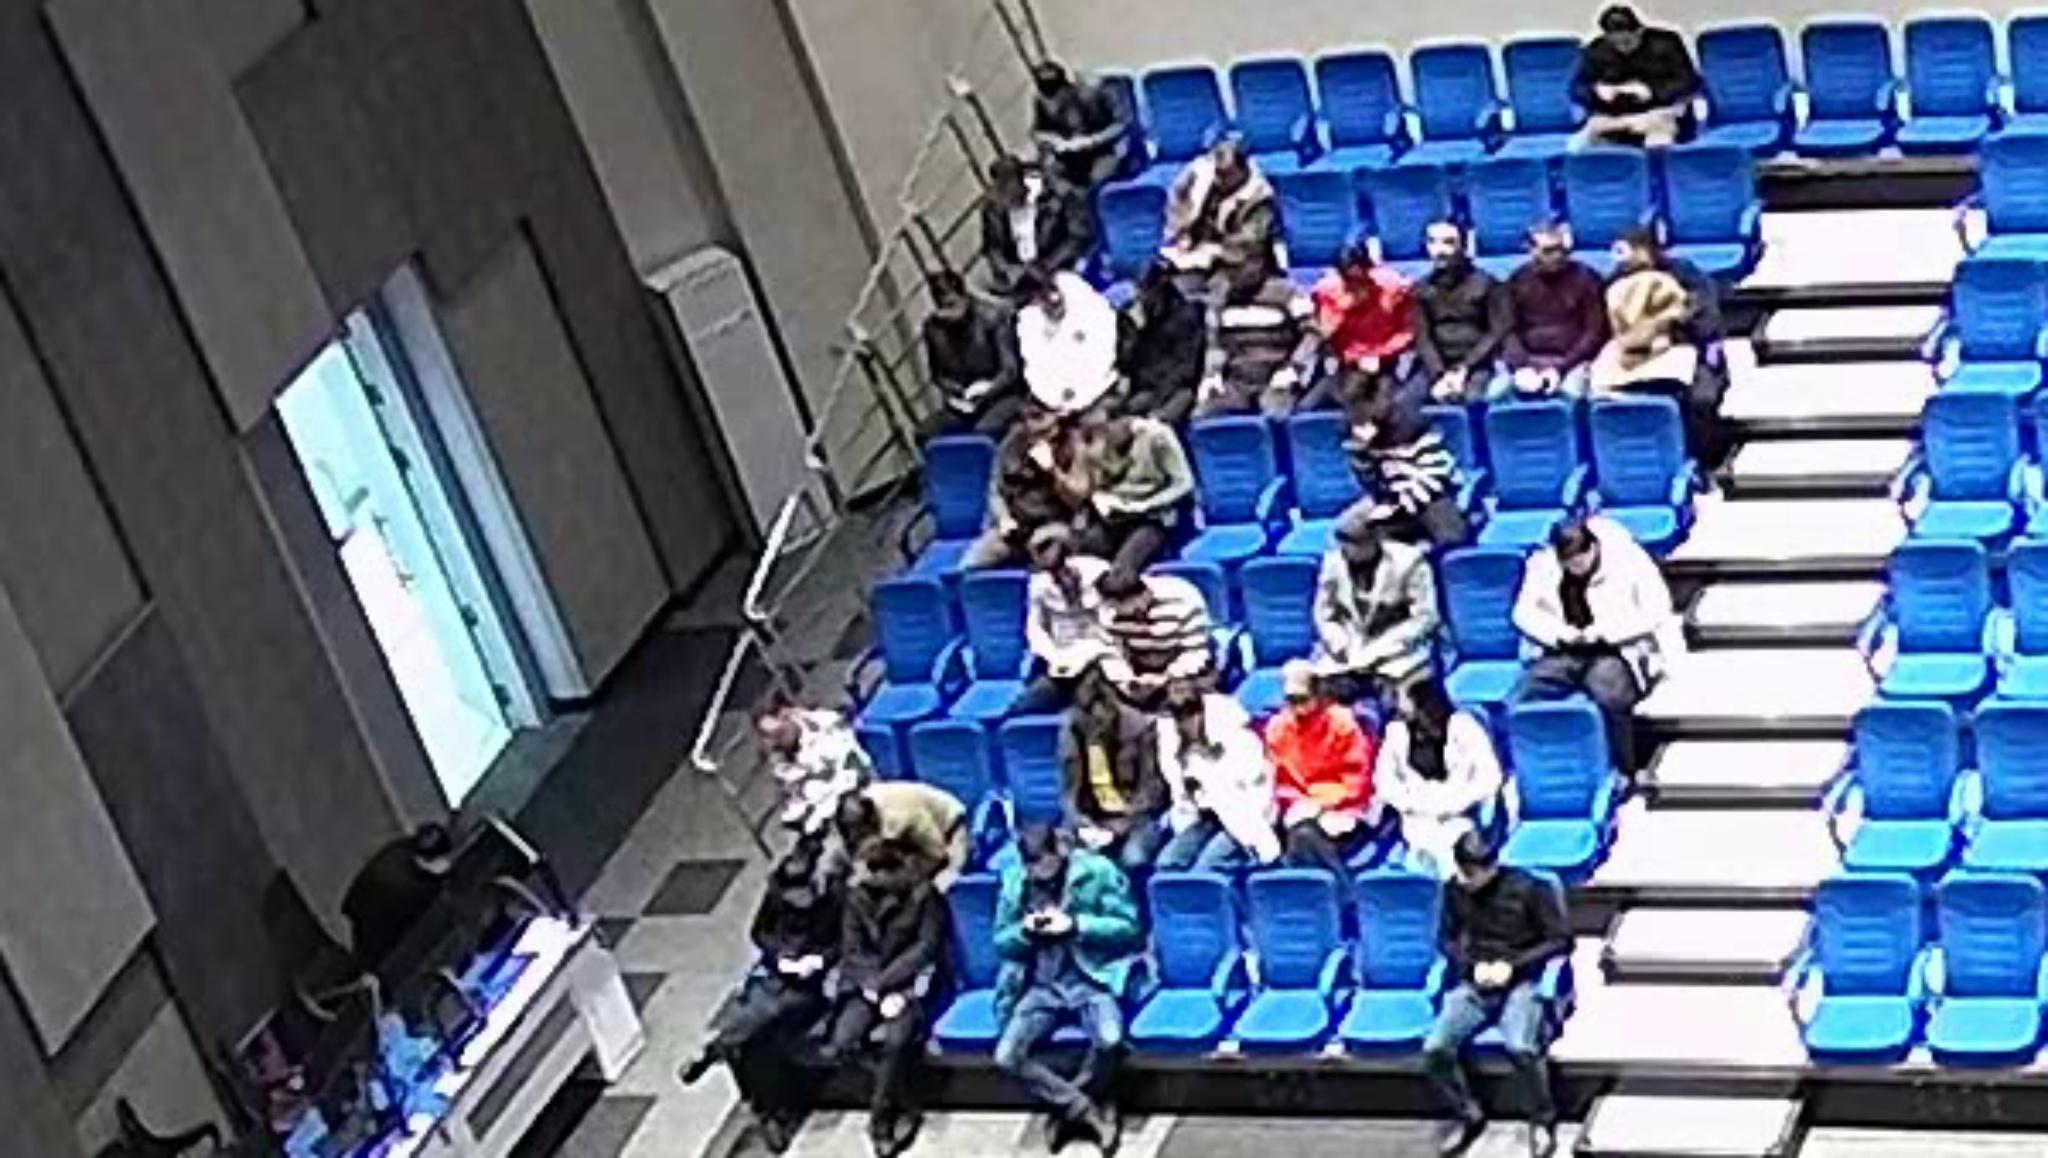empty: (1781, 874, 1927, 1068), (1488, 705, 1619, 888), (1124, 865, 1241, 1058), (1930, 868, 2044, 1065), (1834, 699, 1958, 867), (1236, 868, 1338, 1054), (1875, 539, 1990, 701), (1346, 871, 1445, 1048), (1588, 394, 1701, 545), (1890, 11, 2000, 156), (1476, 402, 1581, 552), (1791, 15, 1899, 156), (1910, 390, 2025, 521), (1650, 141, 1762, 274), (1694, 17, 1800, 156), (1439, 549, 1535, 699), (1231, 556, 1322, 711), (1964, 704, 2048, 870), (1279, 409, 1374, 554), (1187, 412, 1277, 561), (861, 578, 947, 726), (954, 573, 1034, 720), (1944, 253, 2045, 370), (940, 877, 1007, 1050), (1407, 39, 1504, 156), (1499, 32, 1595, 149), (903, 719, 997, 837), (1138, 62, 1236, 174), (1312, 46, 1409, 160), (1227, 53, 1324, 166), (1560, 144, 1653, 257), (1463, 152, 1559, 262), (1094, 180, 1177, 303), (997, 709, 1079, 833), (1272, 163, 1359, 277), (1355, 160, 1450, 262), (919, 432, 1001, 547), (1975, 127, 2048, 242)
